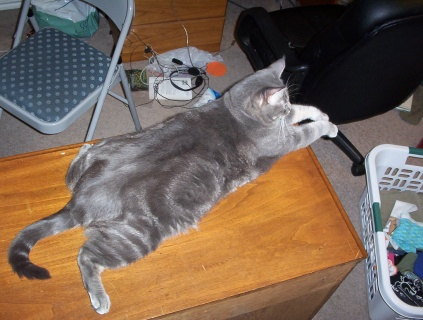Cat: (4, 57, 337, 316)
